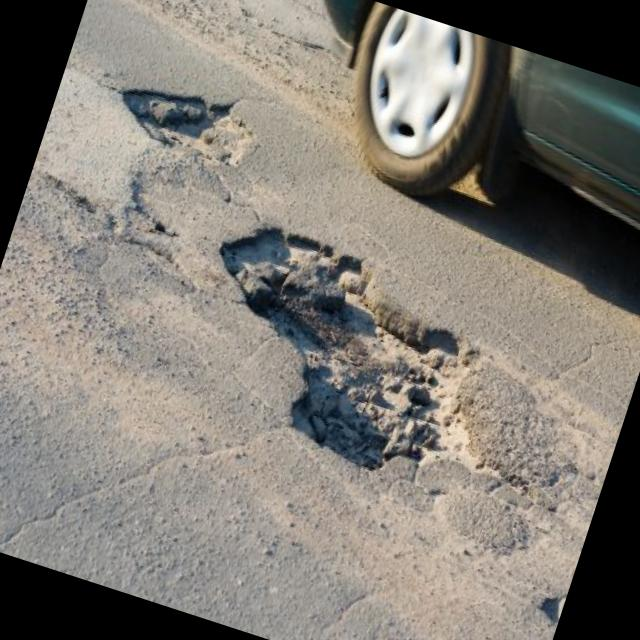Potholes: (171, 195, 523, 508), (107, 64, 269, 180)
